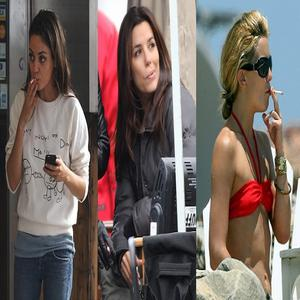cigarette: (266, 88, 286, 98), (28, 78, 36, 87)
